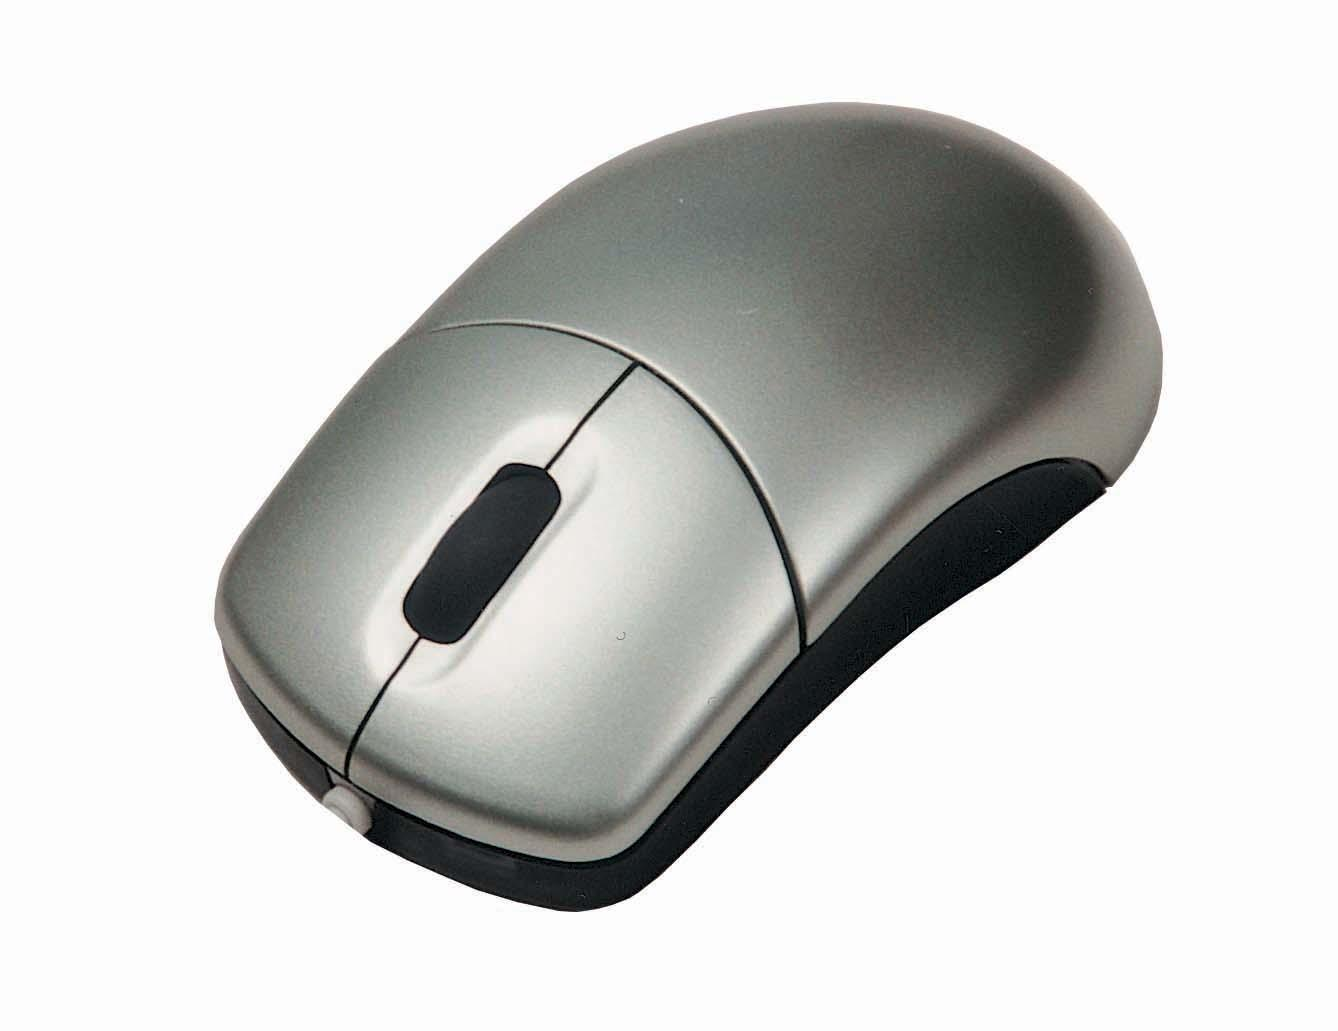computer mouse: (211, 103, 1165, 917)
